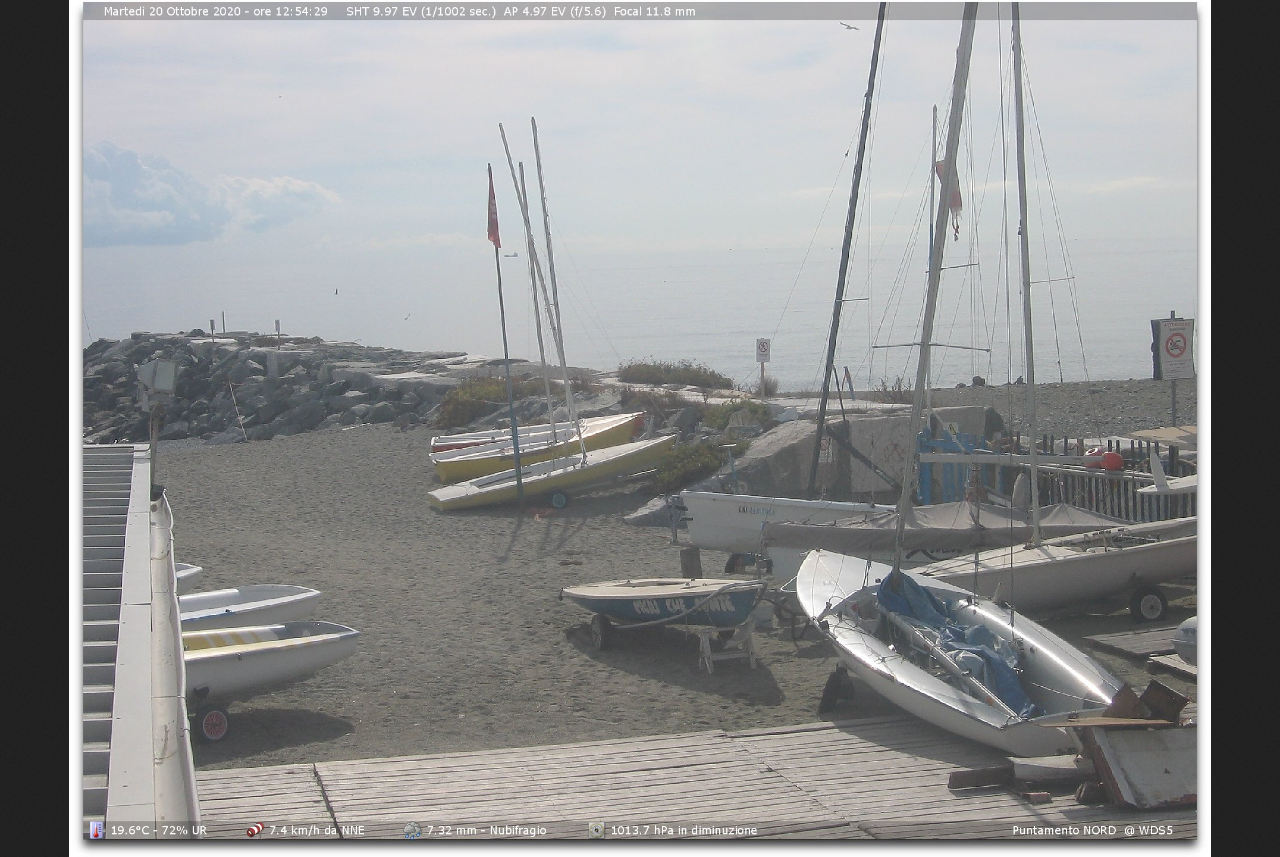no: (484, 159, 509, 258)
